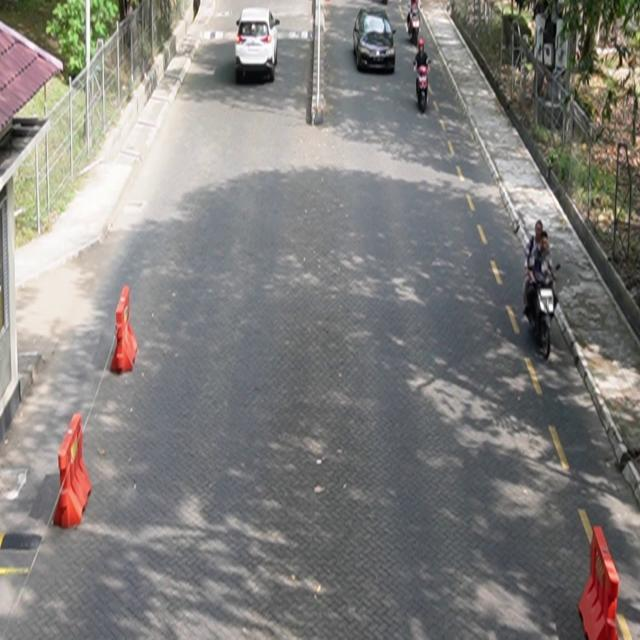car: (235, 7, 281, 84), (354, 7, 397, 74)
